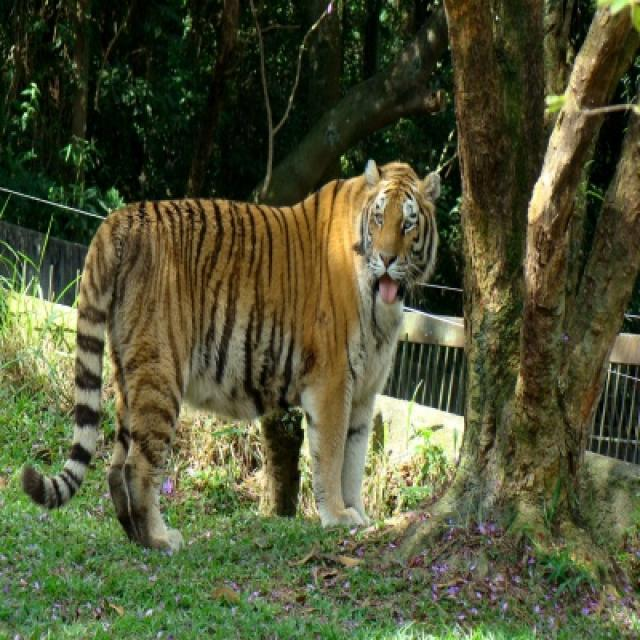Tiger: (26, 157, 444, 546)
